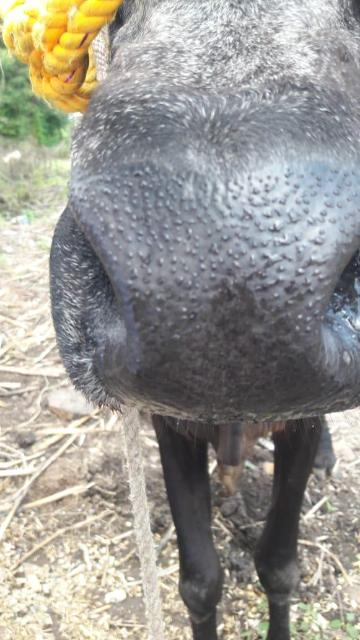Muzzle: (108, 179, 314, 403)
